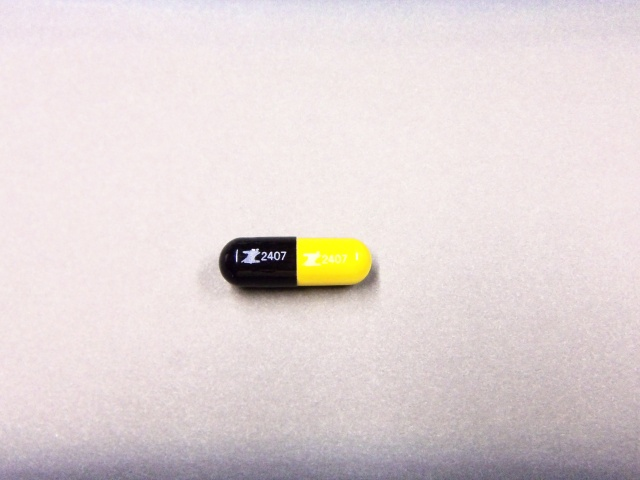capsule: (215, 233, 369, 287)
